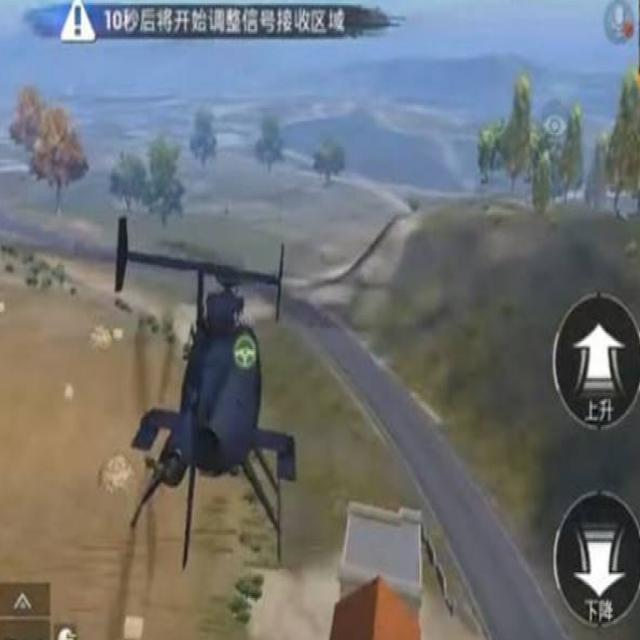helicopter: (111, 216, 303, 584)
